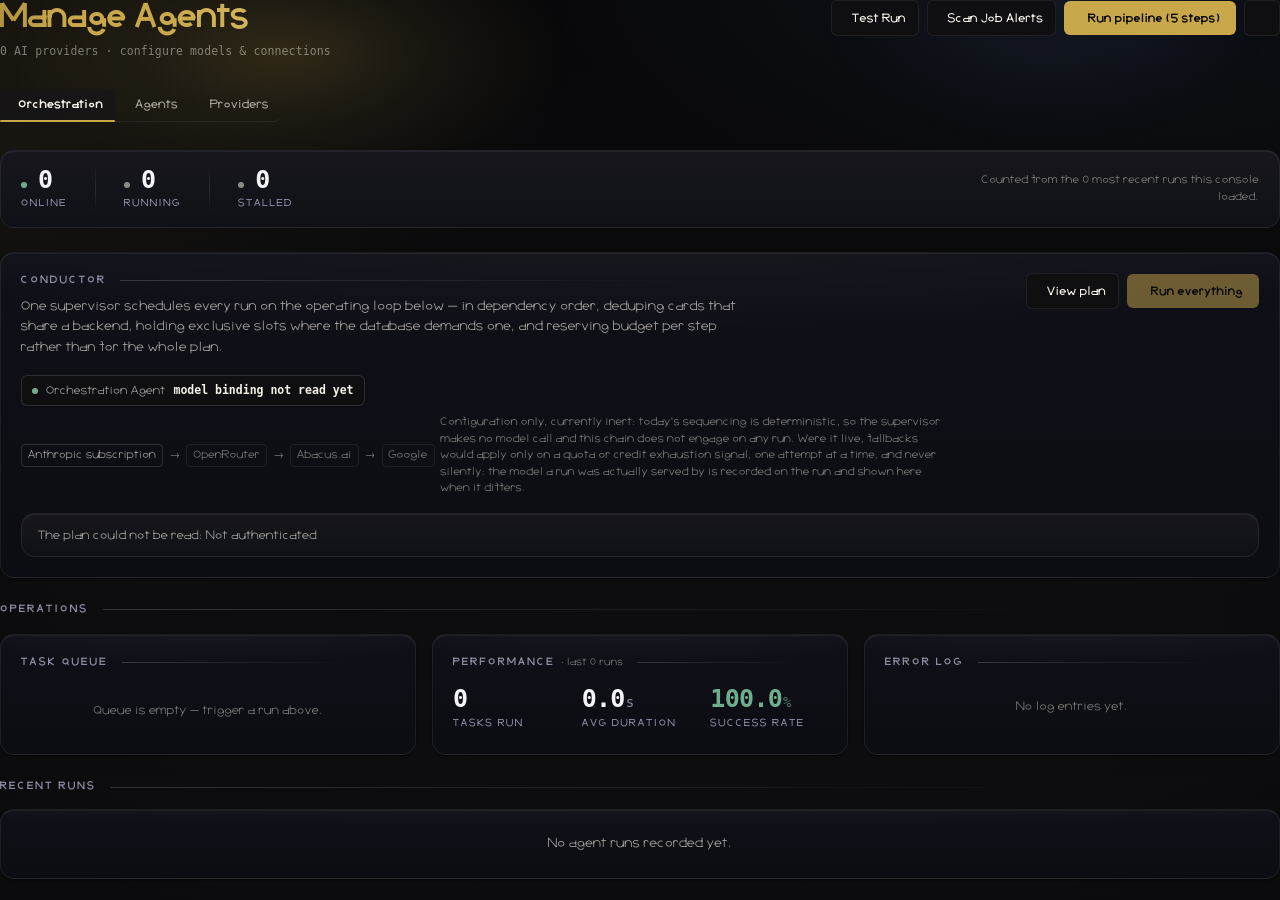
it: Agents console — the job-alert intake is reachable here too › a failed run surfaces the real error, not a summary
Click the button with test id "agents-scan-job-alerts" at (992, 18), box [927,0,1056,36]
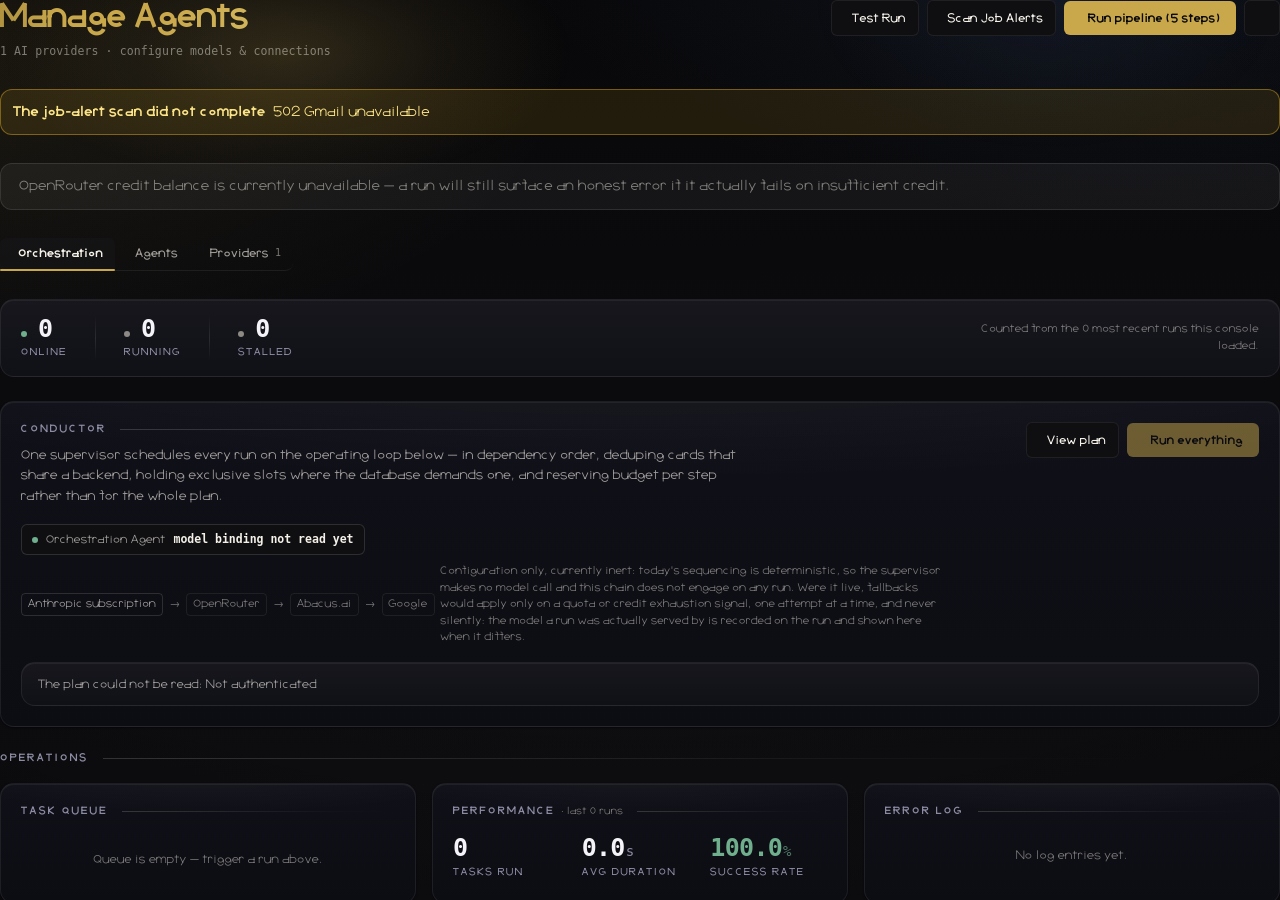
Check: the message with test id "agents-job-alerts-notice" shows "502 Gmail unavailable", box [274,105,430,119]
